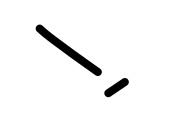b: (25, 19, 113, 84)
